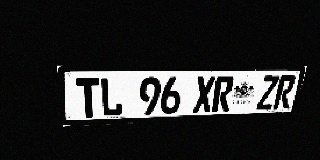6: (160, 77, 182, 114)
9: (139, 77, 161, 115)
L: (100, 77, 123, 117)
R: (211, 76, 235, 112), (273, 76, 296, 109)
T: (75, 78, 101, 118)
X: (193, 76, 216, 113)
Z: (256, 76, 280, 110)
